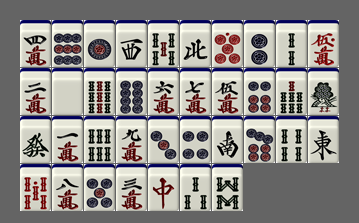0m: (308, 20, 339, 67)
0p: (212, 20, 243, 67)
0s: (20, 164, 51, 211)
1m: (52, 116, 83, 163)
1p: (84, 20, 115, 67)
1s: (308, 68, 339, 115)
1z: (308, 116, 339, 163)
2m: (20, 68, 51, 115)
2p: (244, 20, 275, 67)
2s: (276, 20, 307, 67)
2z: (212, 116, 243, 163)
3m: (116, 164, 147, 211)
3p: (148, 116, 179, 163)
3s: (180, 164, 211, 211)
3z: (116, 20, 147, 67)
4m: (20, 20, 51, 67)
4p: (180, 116, 211, 163)
4s: (276, 116, 307, 163)
4z: (180, 20, 211, 67)
5m: (212, 68, 243, 115)
5p: (84, 164, 115, 211)
5s: (148, 20, 179, 67)
5z: (52, 68, 83, 115)
6m: (148, 68, 179, 115)
6p: (244, 68, 275, 115)
6s: (84, 116, 115, 163)
6z: (20, 116, 51, 163)
7m: (180, 68, 211, 115)
7p: (244, 116, 275, 163)
7s: (276, 68, 307, 115)
7z: (148, 164, 179, 211)
8m: (52, 164, 83, 211)
8p: (116, 68, 147, 115)
8s: (212, 164, 243, 211)
9m: (116, 116, 147, 163)
9p: (52, 20, 83, 67)
9s: (84, 68, 115, 115)
